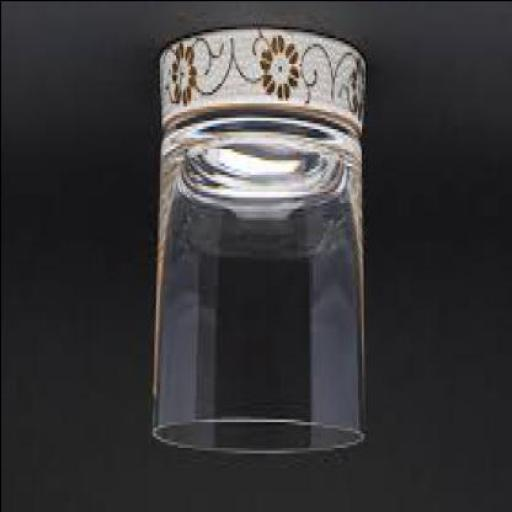glass: (151, 29, 368, 455)
